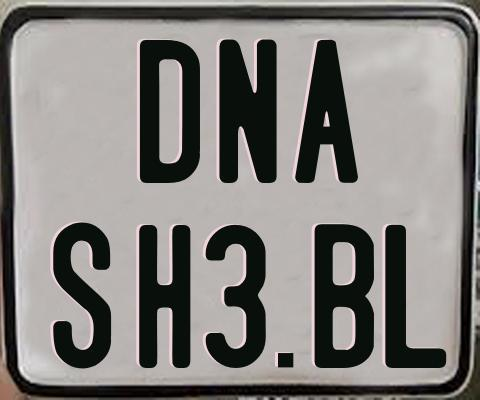3: (204, 223, 264, 368)
A: (292, 37, 359, 184)
B: (313, 222, 376, 369)
D: (138, 40, 201, 189)
H: (139, 223, 197, 372)
L: (382, 222, 443, 367)
N: (219, 38, 281, 188)
S: (53, 222, 112, 372)
